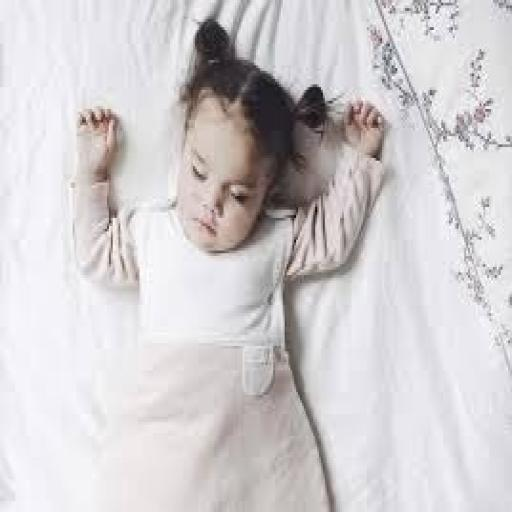sleeping: (67, 16, 390, 510)
